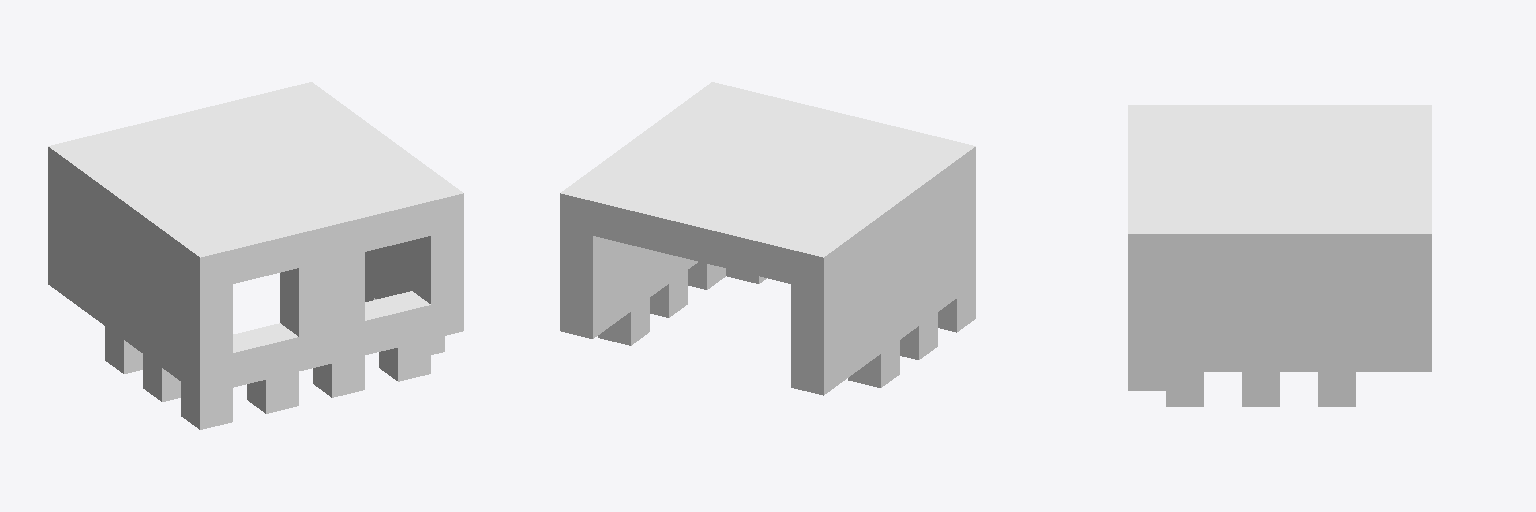
Rendered from upper_jaw.obj.
The picture shows the model from 3 angles: view 1: azimuth 30°, elevation 25°; view 2: azimuth 150°, elevation 25°; view 3: azimuth 270°, elevation 25°; orthographic projection.
Visible parts, largest first — view 1: upper_jaw; view 2: upper_jaw; view 3: upper_jaw.
Boxes of the visible parts, x1,y1,x2,y2 form: upper_jaw: [48, 82, 463, 429]; upper_jaw: [560, 82, 975, 395]; upper_jaw: [1128, 105, 1431, 406].
Size of the model in its own units: 8 by 5 by 8.